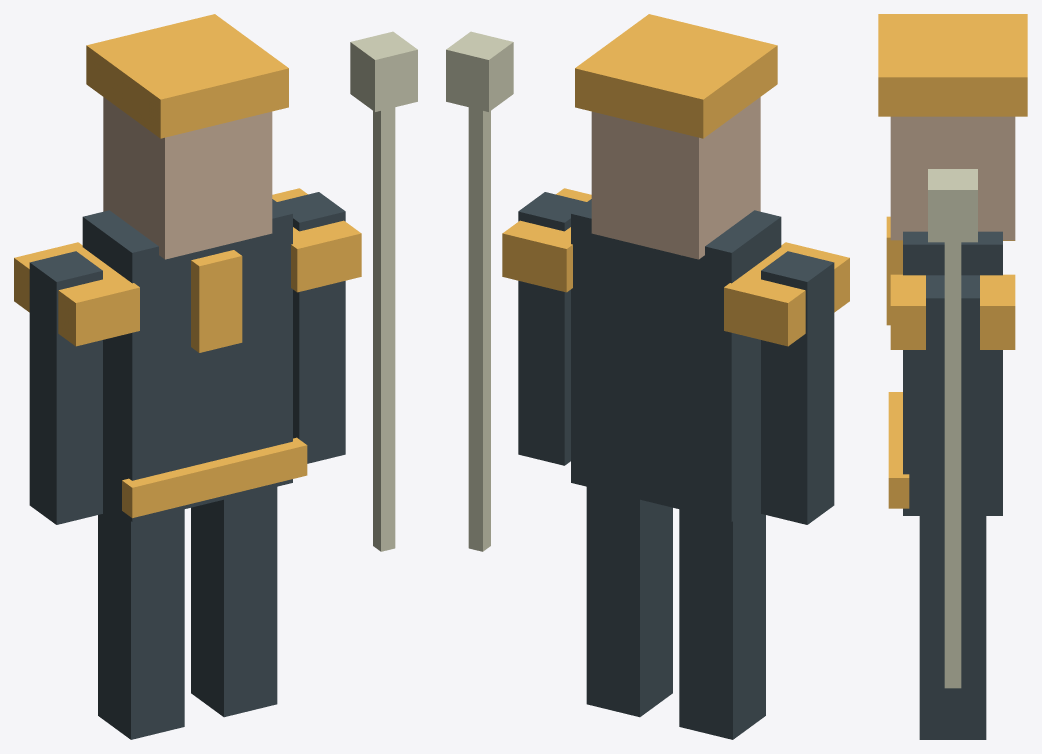
Rendered from 13_elo_brightlock_pilgrim_of_deep.glb.
The picture shows the model from 3 angles, left to right: view 1: azimuth 30°, elevation 25°; view 2: azimuth 150°, elevation 25°; view 3: azimuth 270°, elevation 25°; orthographic projection.
Parts seen in each view (by area): view 1: Elo Brightlock, Pilgrim of Deep; view 2: Elo Brightlock, Pilgrim of Deep; view 3: Elo Brightlock, Pilgrim of Deep.
Part boxes in pixels (<box>): Elo Brightlock, Pilgrim of Deep: <box>14,14,417,739</box>; Elo Brightlock, Pilgrim of Deep: <box>446,14,849,739</box>; Elo Brightlock, Pilgrim of Deep: <box>878,14,1027,739</box>.
Size of the model in its own units: 0.9745 by 1.68 by 0.3456.
